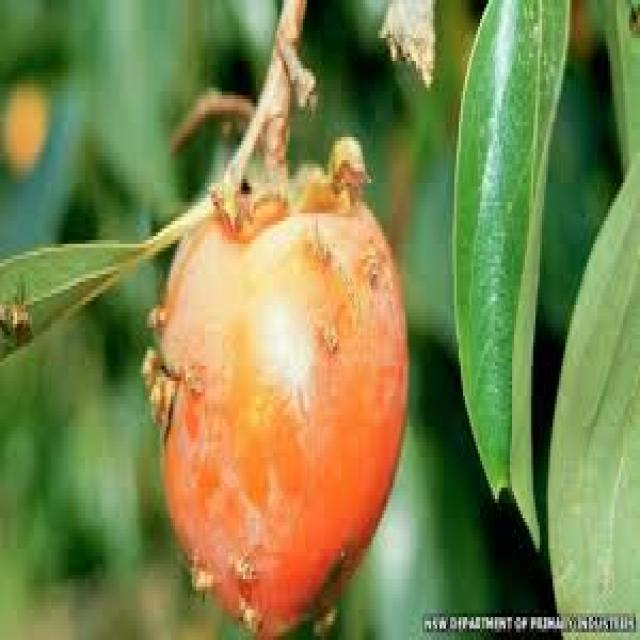organic waste: (134, 137, 412, 636), (450, 0, 548, 556), (546, 130, 638, 636), (0, 247, 166, 350)
